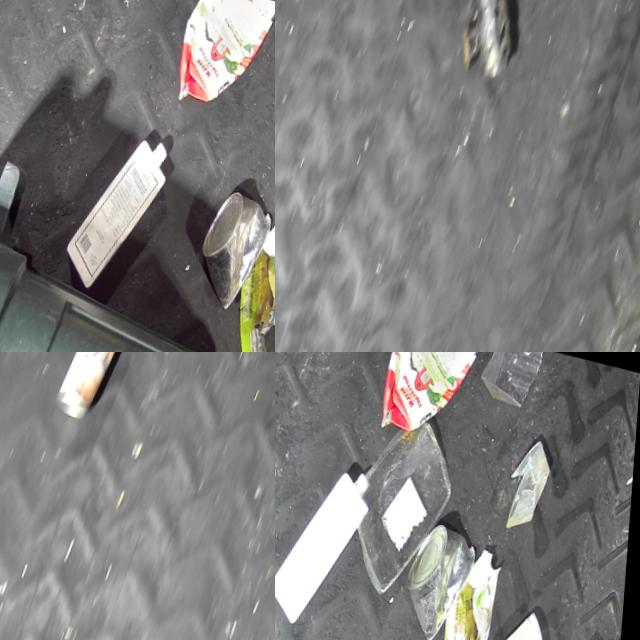can: (391, 522, 488, 640), (188, 190, 275, 317), (50, 352, 134, 425)
milk_jug: (58, 125, 182, 304), (275, 456, 386, 635)
non_white_jug: (161, 0, 275, 123), (365, 352, 492, 455)
